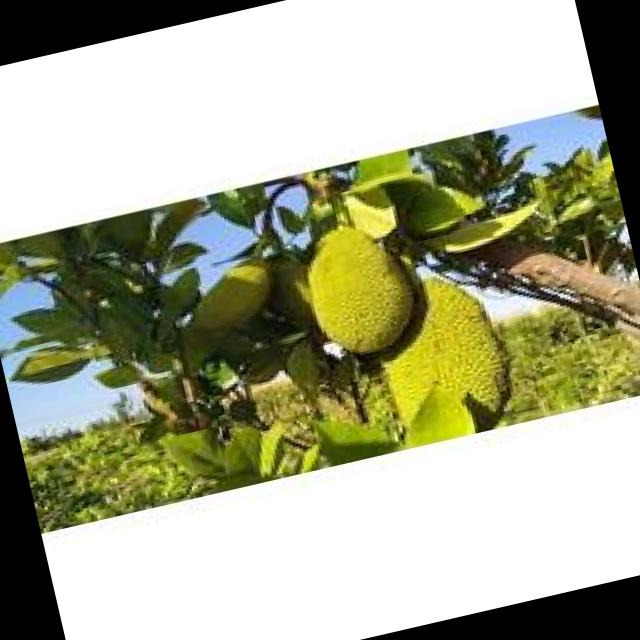Fruit: (352, 250, 524, 446), (284, 207, 436, 382)
